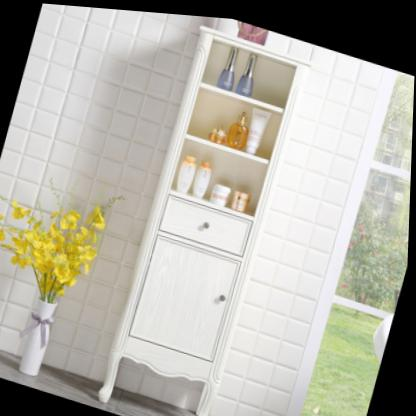Cupboard: (101, 24, 308, 416)
